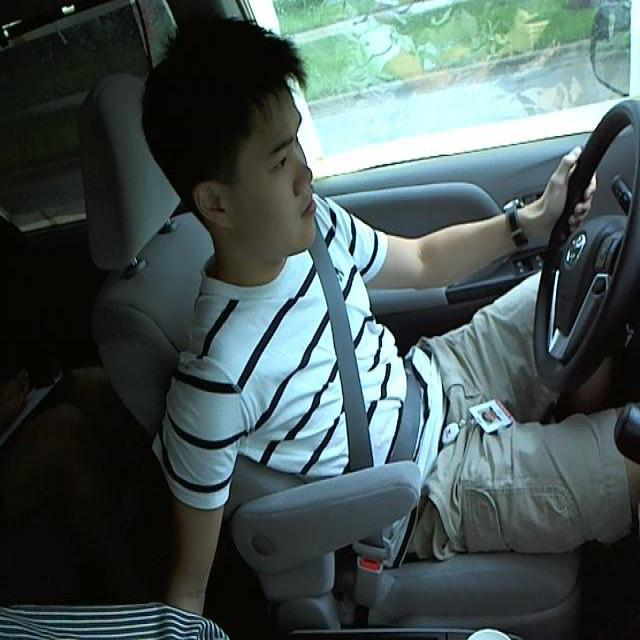seatbelt: (294, 250, 435, 467)
